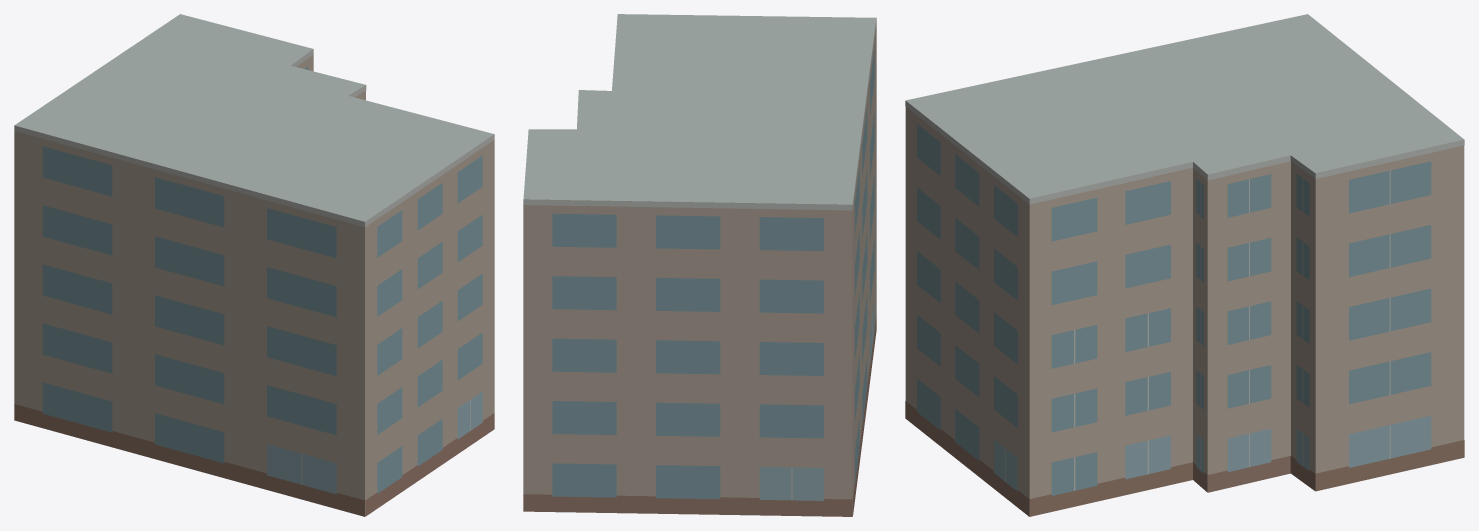
The model's file is survey-upis-32492314.glb.
3 views of the same model, side by side, from view 1: azimuth 30°, elevation 25°; view 2: azimuth 150°, elevation 25°; view 3: azimuth 270°, elevation 25° (orthographic). The views are drawn at different scales.
Parts seen in each view (by area): view 1: survey-upis-32492314.tmp; view 2: survey-upis-32492314.tmp; view 3: survey-upis-32492314.tmp.
Boxes of the visible parts, x1=… form: survey-upis-32492314.tmp: x1=14, y1=14, x2=494, y2=516; survey-upis-32492314.tmp: x1=523, y1=14, x2=876, y2=516; survey-upis-32492314.tmp: x1=905, y1=14, x2=1464, y2=516.
Size of the model in its own units: 16.61 by 13.32 by 21.23.
